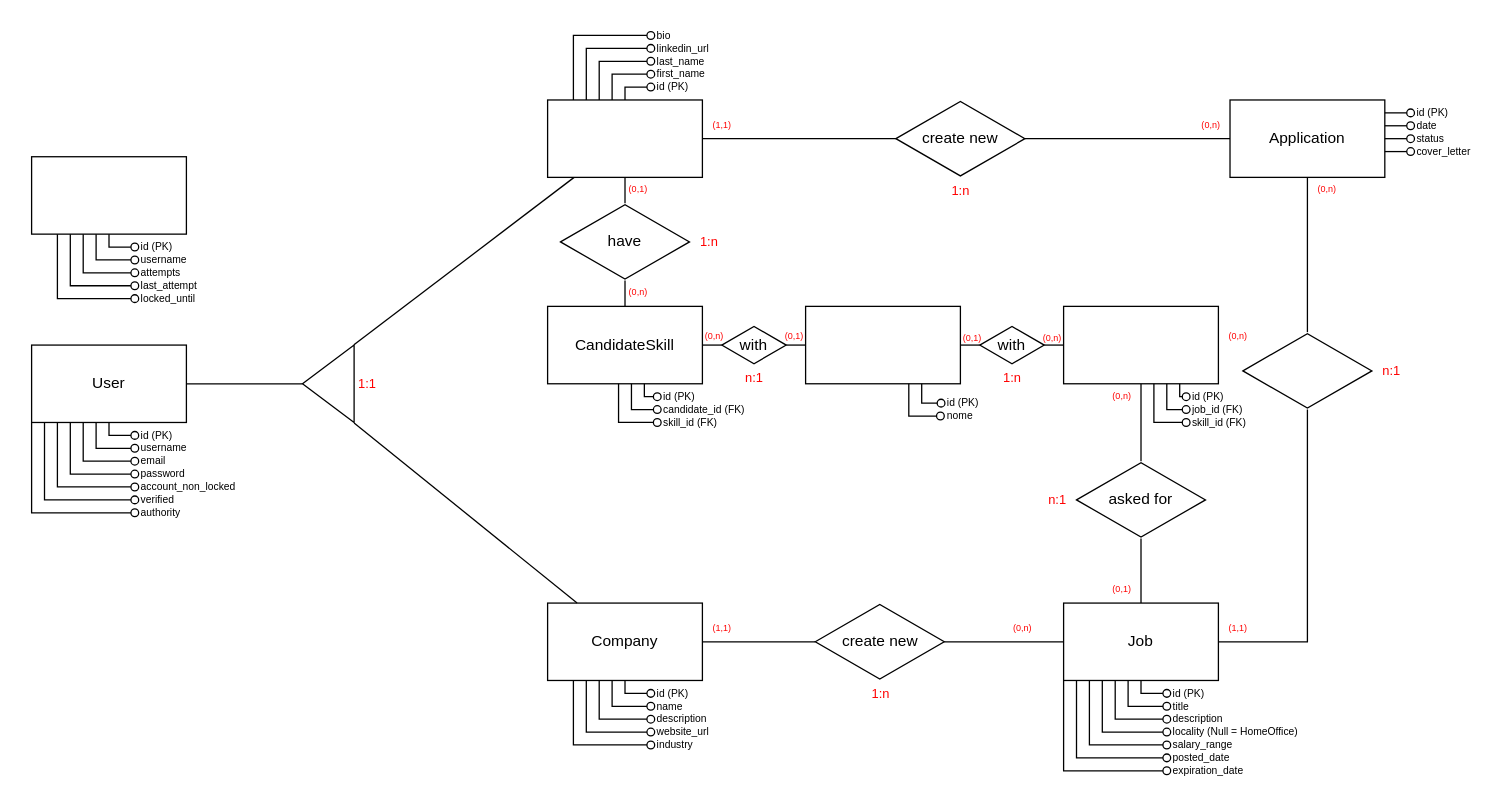
Image size: 1511x805. Some labels were removed from this diagram. The shapes that lost their labels are listed below. From the top down, each one's centre as x and y in pixels, then its label:
At point 624,138: "Candidate".
At point 108,194: "LogginAttempt".
At point 882,344: "Skill".
At point 1140,344: "JobSkill".
At point 1307,370: "to".
